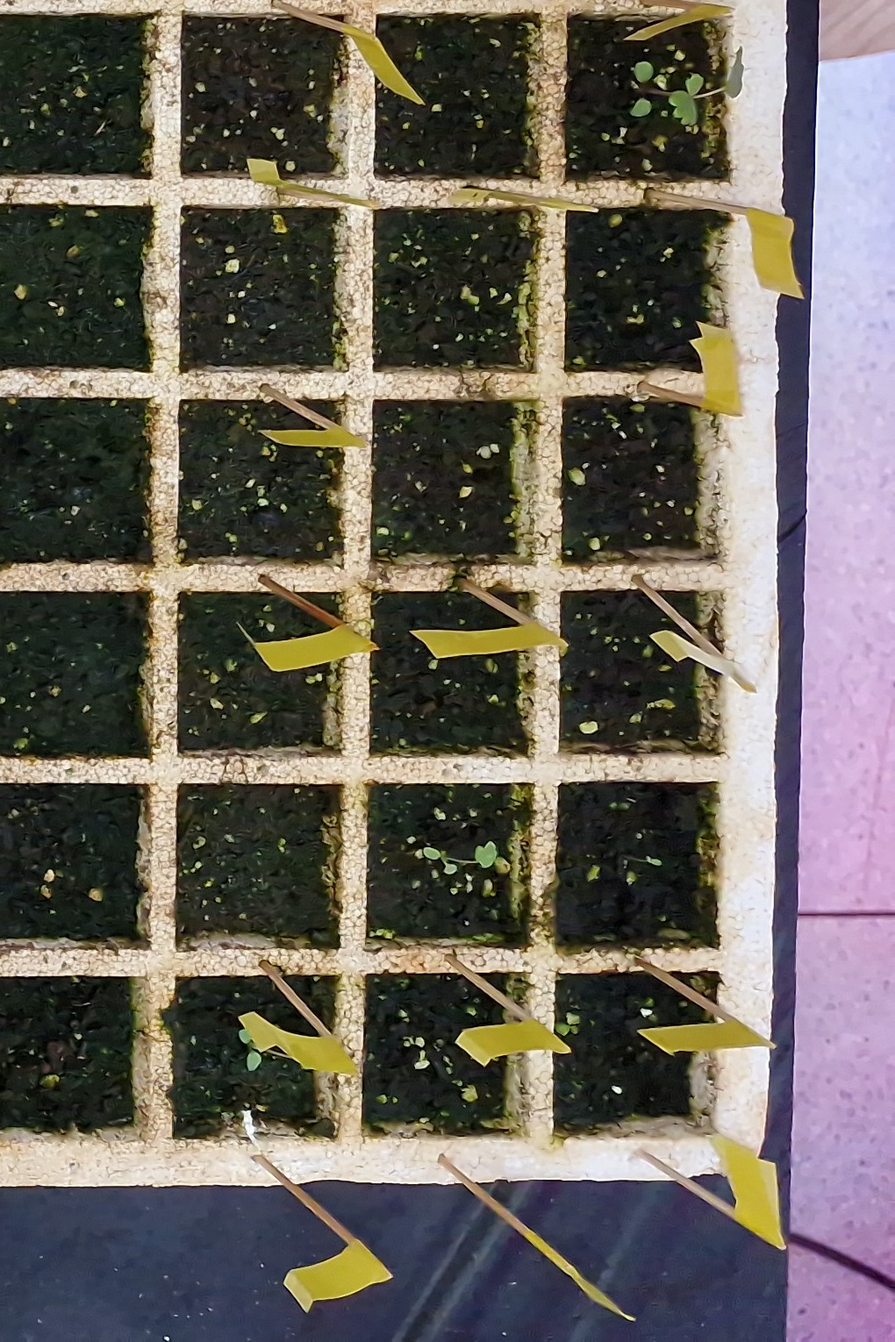Folha: (669, 91, 696, 125), (726, 47, 744, 97), (475, 842, 497, 867), (634, 62, 653, 82), (630, 99, 651, 117), (686, 74, 702, 96), (247, 1051, 261, 1070), (424, 847, 441, 859), (238, 1029, 252, 1043), (444, 864, 457, 874)
Germinacao: (630, 46, 743, 125), (424, 842, 497, 874), (239, 1030, 261, 1070), (632, 856, 661, 865)
